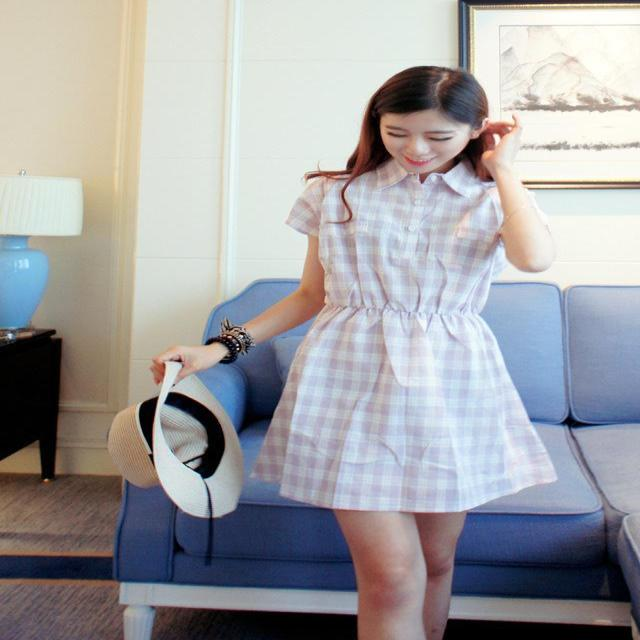short sleeve dress: (254, 161, 557, 511)
